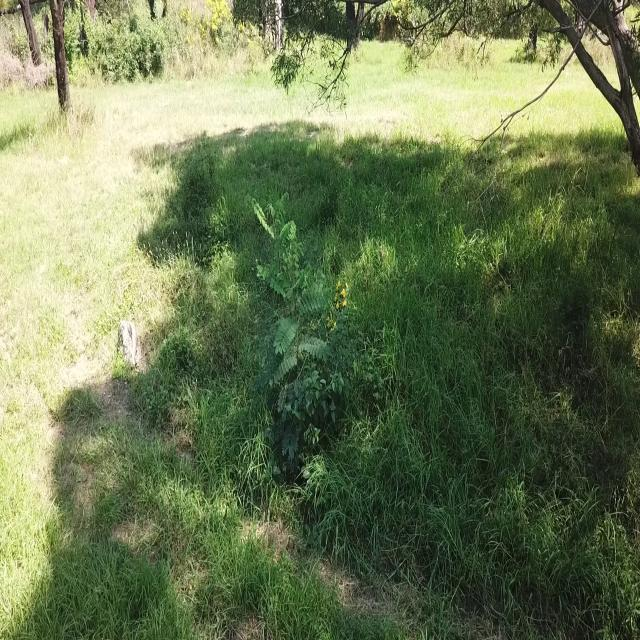Mysore-Thorn-Weed: (248, 190, 332, 448)
